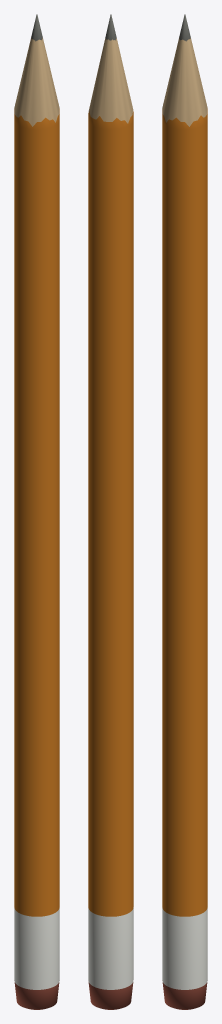
Rendered from pencil.fbx.
3 views of the same model, side by side, from view 1: azimuth 90°, elevation 25°; view 2: azimuth 150°, elevation 25°; view 3: azimuth 270°, elevation 25° (orthographic).
Visible parts, largest first — view 1: Cylinder; view 2: Cylinder; view 3: Cylinder.
Part boxes in pixels (x1,y1,x2,y2): Cylinder: (14, 14, 59, 1009); Cylinder: (88, 14, 133, 1009); Cylinder: (162, 14, 207, 1009).
Bounding box in the file's own units: 16.53 × 400 × 16.53.
